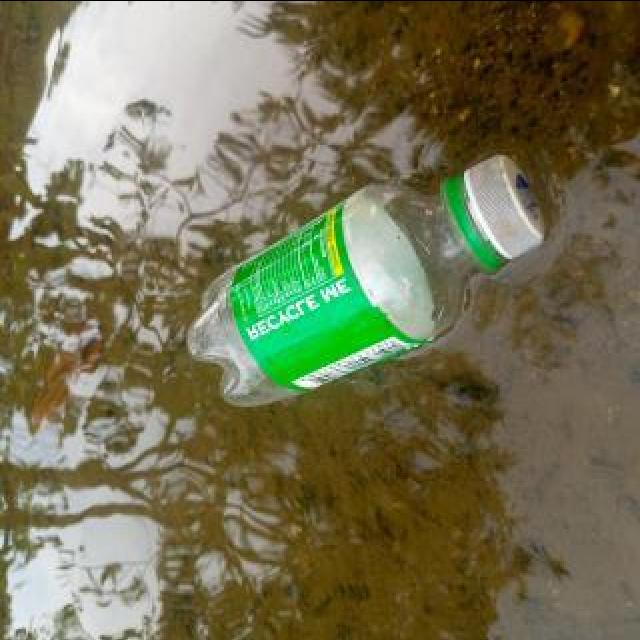Bottle: (179, 146, 553, 414)
